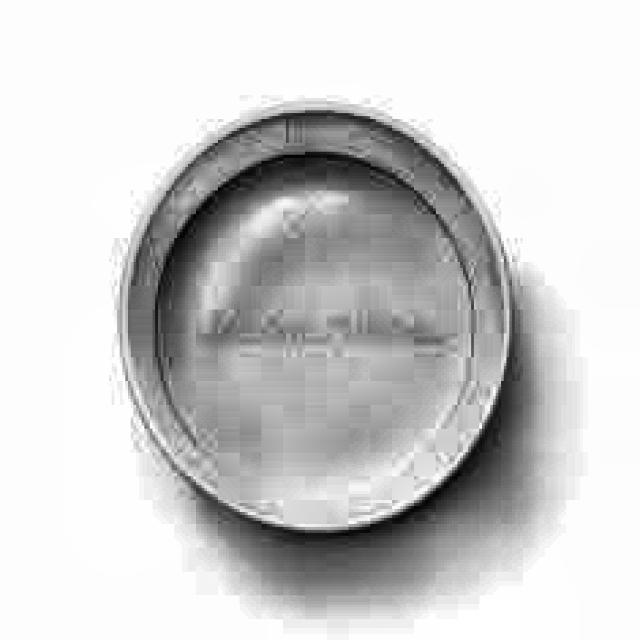Cup: (98, 78, 529, 557)
